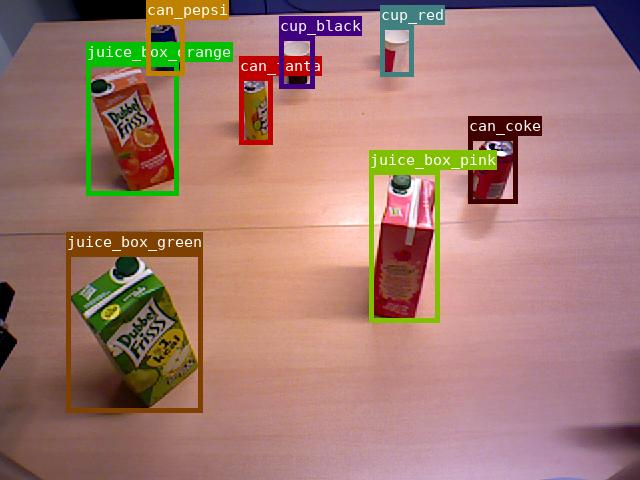can_coke: (468, 136, 517, 203)
can_fanta: (239, 76, 272, 144)
can_pepsi: (146, 20, 184, 75)
cup_black: (279, 36, 314, 88)
cup_red: (380, 25, 413, 76)
juice_box_green: (66, 252, 202, 412)
juice_box_orange: (86, 62, 178, 195)
juice_box_pink: (369, 170, 439, 322)
